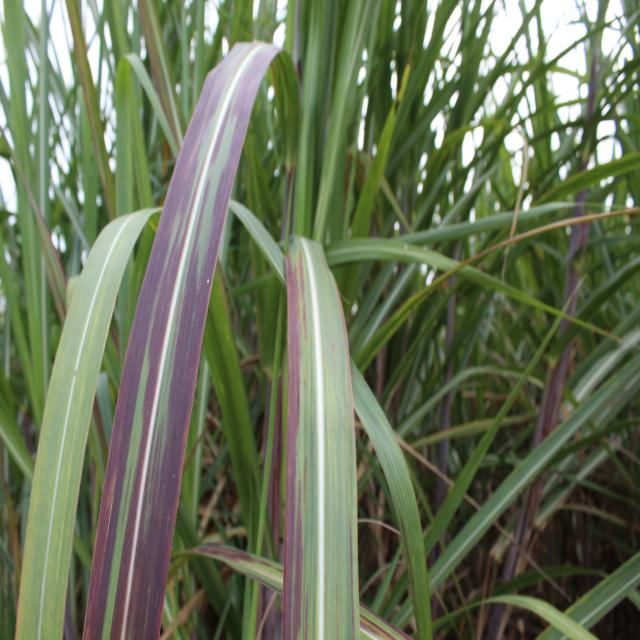Sugarcane: (78, 48, 292, 640), (12, 190, 162, 640), (280, 231, 366, 640)
